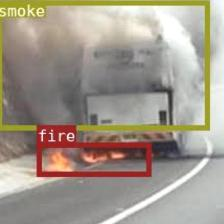fire: (37, 142, 150, 176)
smoke: (0, 0, 209, 129)
